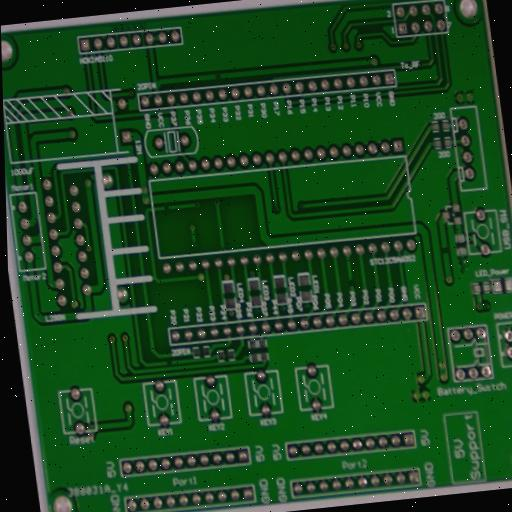open_circuit: (441, 244, 451, 258), (213, 72, 224, 82), (347, 276, 356, 288), (163, 204, 172, 212), (165, 360, 174, 367)
